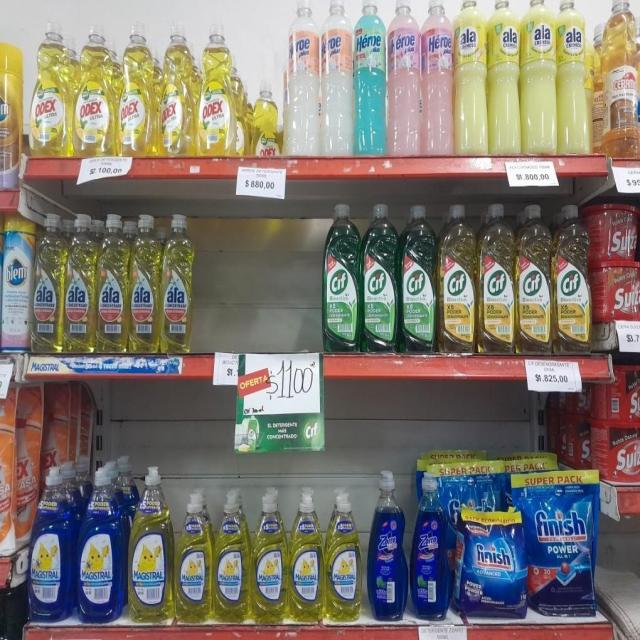ala_conc_amarillo: (162, 213, 194, 353), (97, 211, 128, 355), (64, 212, 95, 354), (130, 211, 160, 354), (32, 212, 62, 354)
ala_crem_amarillo: (557, 0, 592, 156), (521, 0, 556, 155), (454, 0, 487, 156), (488, 0, 520, 156)
cif_conc_bot_amarilla: (438, 202, 476, 354), (553, 203, 590, 354), (478, 202, 514, 354), (516, 203, 551, 354)
cif_conc_botella_verde: (323, 202, 360, 353), (362, 202, 398, 354), (400, 203, 436, 354)
heroe: (386, 0, 421, 156), (421, 0, 453, 154)
magistral_con_amarillo: (128, 464, 173, 624), (175, 490, 212, 624), (214, 488, 250, 623), (252, 487, 287, 624), (326, 490, 362, 622), (289, 487, 323, 624)
magistral_con_azul: (76, 462, 125, 624), (29, 464, 73, 624)
zorro: (367, 469, 407, 622)
